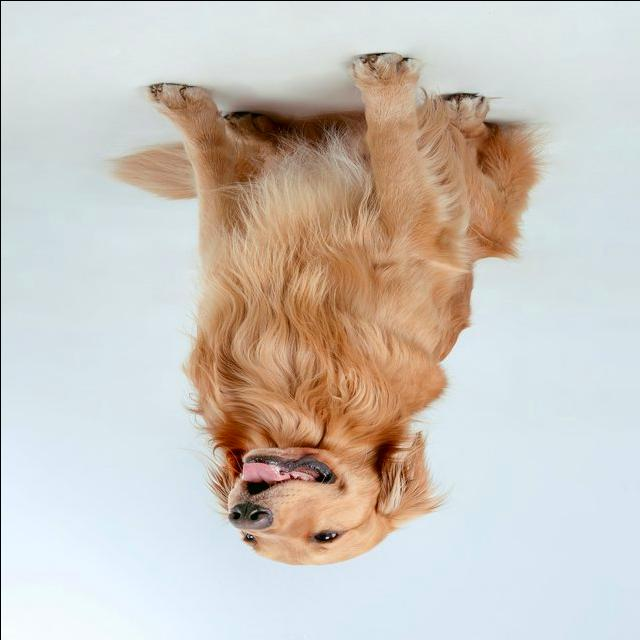retriever: (109, 51, 548, 567)
